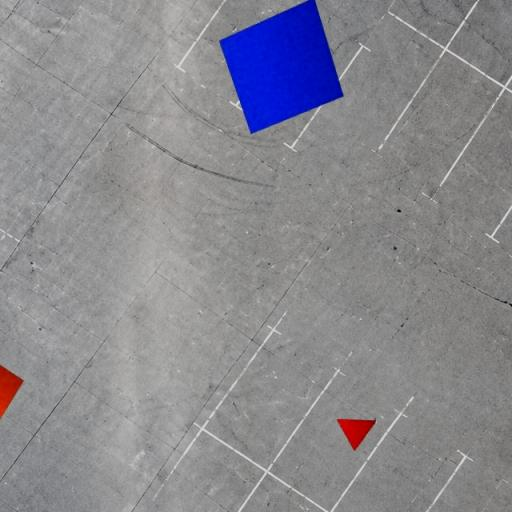BLUE_SQUARE: (218, 0, 343, 134)
RED_SQUARE: (0, 349, 25, 424)
